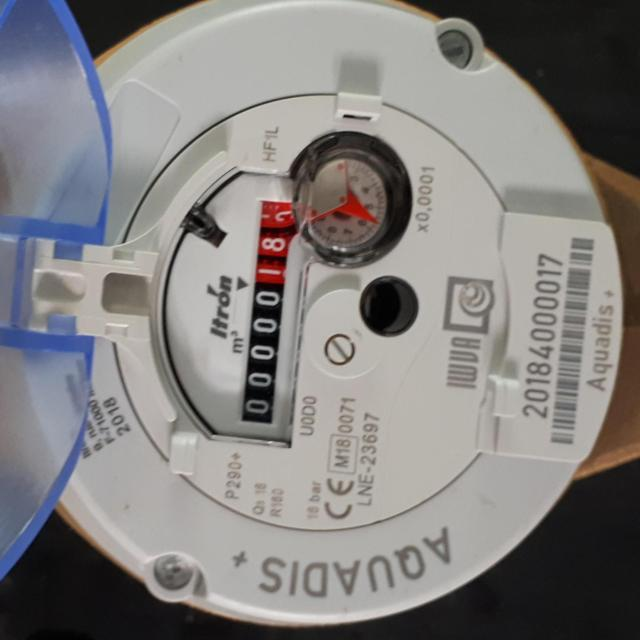gaz_meter: (113, 85, 509, 532)
indication: (236, 201, 303, 430)
